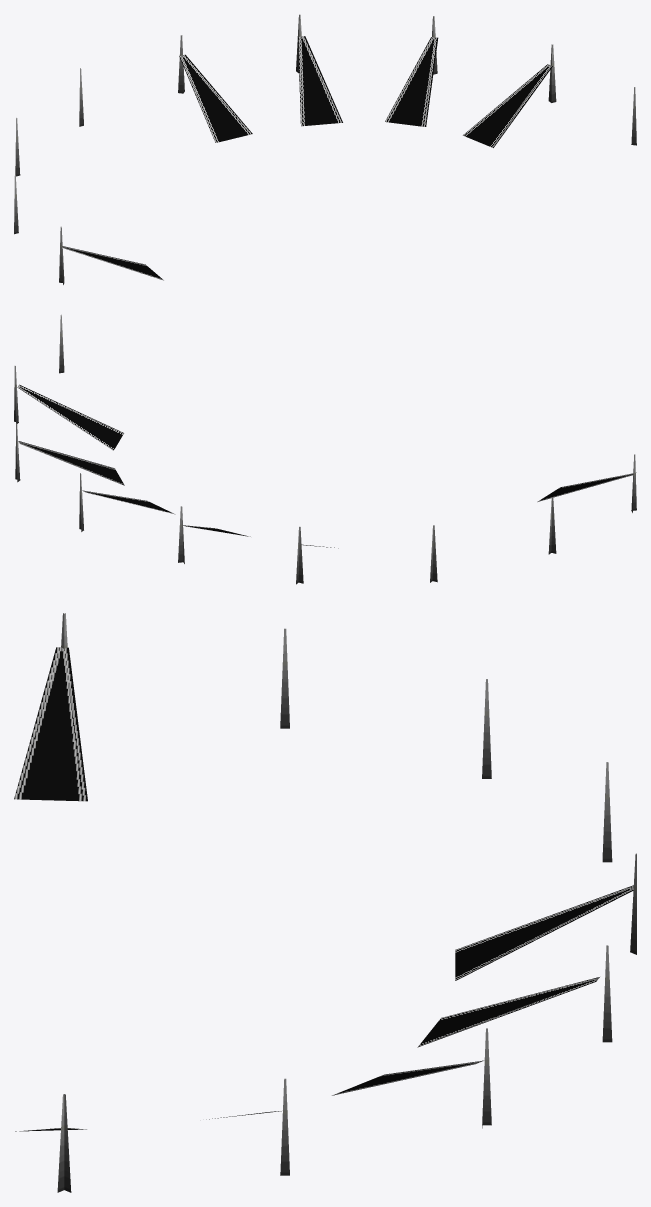
3 renders of one model, top to bottom at view 1: azimuth 30°, elevation 25°; view 2: azimuth 150°, elevation 25°; view 3: azimuth 270°, elevation 25°, orthographic. The views are drawn at different scales.
Bounding box in the file's own units: 182 × 19.64 × 99.26.
Materials: 2 (2 with a texture image).
